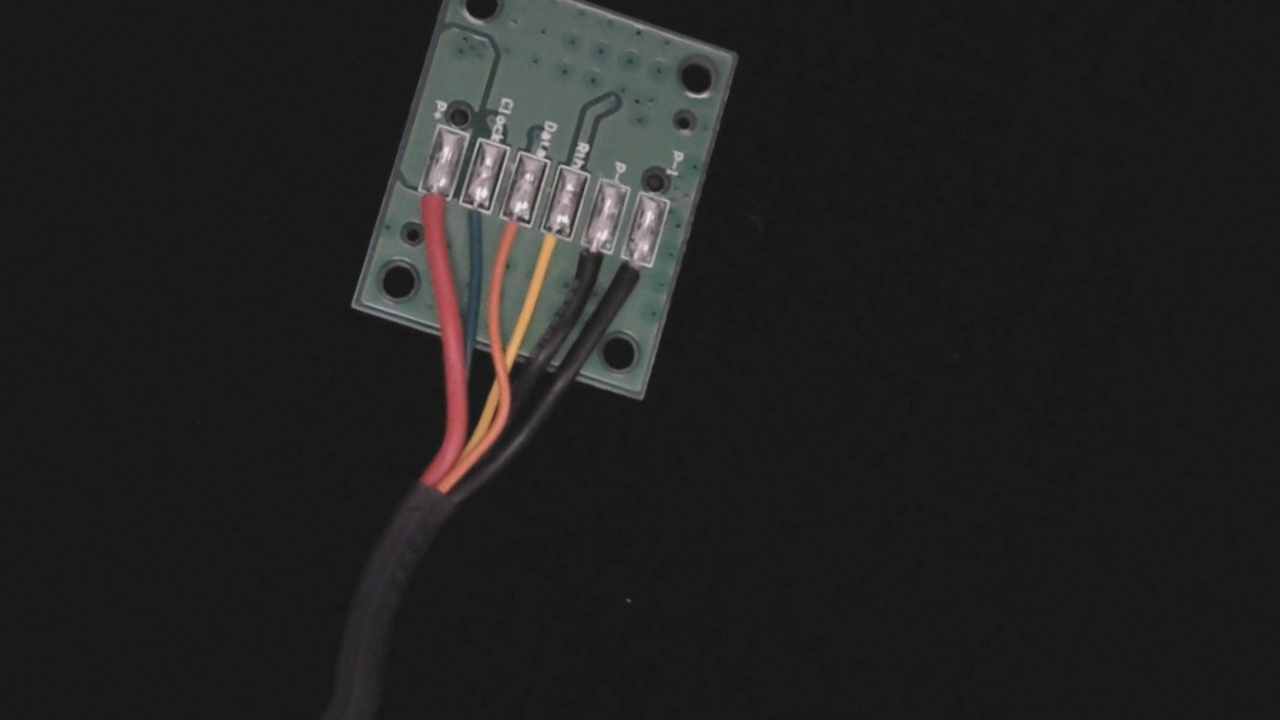Black: (563, 222, 620, 305)
Black1: (604, 240, 660, 322)
Green: (446, 185, 499, 260)
Orange: (486, 195, 538, 272)
Red: (404, 171, 458, 252)
Yellow: (525, 207, 580, 290)
